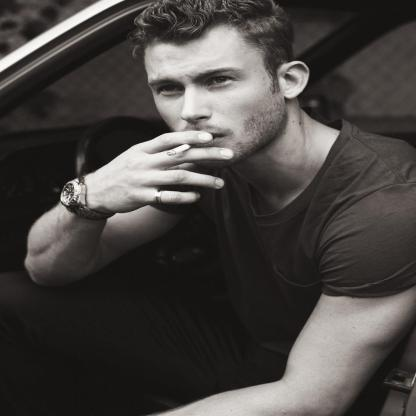cigarette: (162, 140, 200, 160)
person: (2, 0, 416, 416)
